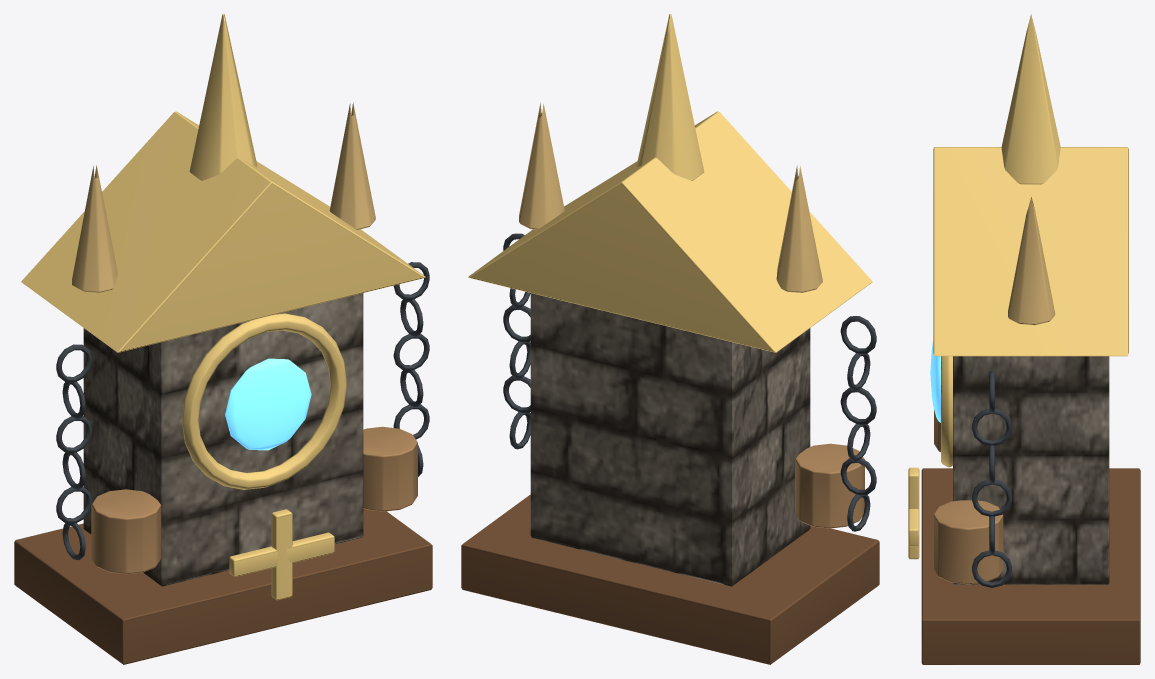
Rendered from BellTowerCasket.glb.
3 views of the same model, side by side, from view 1: azimuth 30°, elevation 25°; view 2: azimuth 150°, elevation 25°; view 3: azimuth 270°, elevation 25° (orthographic).
Parts seen in each view (by area): view 1: BellTowerCasket; view 2: BellTowerCasket; view 3: BellTowerCasket.
Part boxes in pixels (x1,y1,x2,y2): BellTowerCasket: (14, 14, 432, 664); BellTowerCasket: (461, 14, 879, 664); BellTowerCasket: (908, 14, 1140, 664).
Bounding box in the file's own units: 0.5516 × 0.8119 × 0.297.
7 materials, 1 textured.
